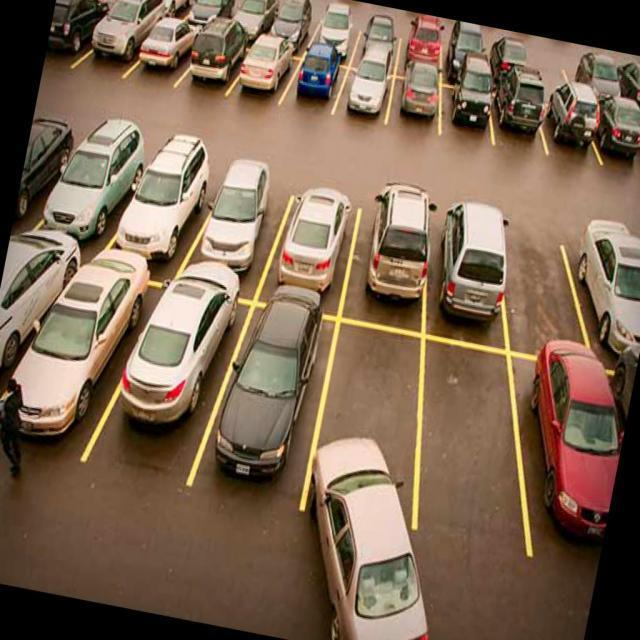car: (0, 239, 152, 474), (504, 340, 636, 558), (103, 269, 240, 476), (304, 320, 436, 522), (214, 302, 330, 502), (0, 218, 86, 430), (406, 197, 522, 352), (262, 178, 368, 334), (188, 154, 292, 308), (114, 132, 218, 286), (338, 182, 449, 326), (46, 118, 147, 255), (554, 224, 640, 374), (11, 108, 73, 245), (79, 0, 168, 84), (134, 10, 208, 90), (230, 30, 302, 111), (182, 20, 252, 99), (286, 46, 352, 126), (578, 100, 640, 184), (328, 60, 398, 132), (534, 88, 598, 166), (44, 0, 110, 75), (486, 84, 550, 154), (562, 43, 630, 108), (434, 22, 500, 86), (385, 70, 447, 138), (436, 68, 494, 140), (390, 24, 451, 82), (486, 33, 540, 97), (348, 19, 406, 75), (311, 10, 361, 60), (271, 0, 317, 53), (608, 52, 640, 114), (236, 0, 278, 39), (622, 106, 640, 194), (192, 0, 240, 33), (146, 0, 202, 24), (101, 0, 156, 17), (56, 0, 110, 14)
free: (398, 336, 536, 540), (479, 216, 596, 360), (522, 44, 578, 104)
